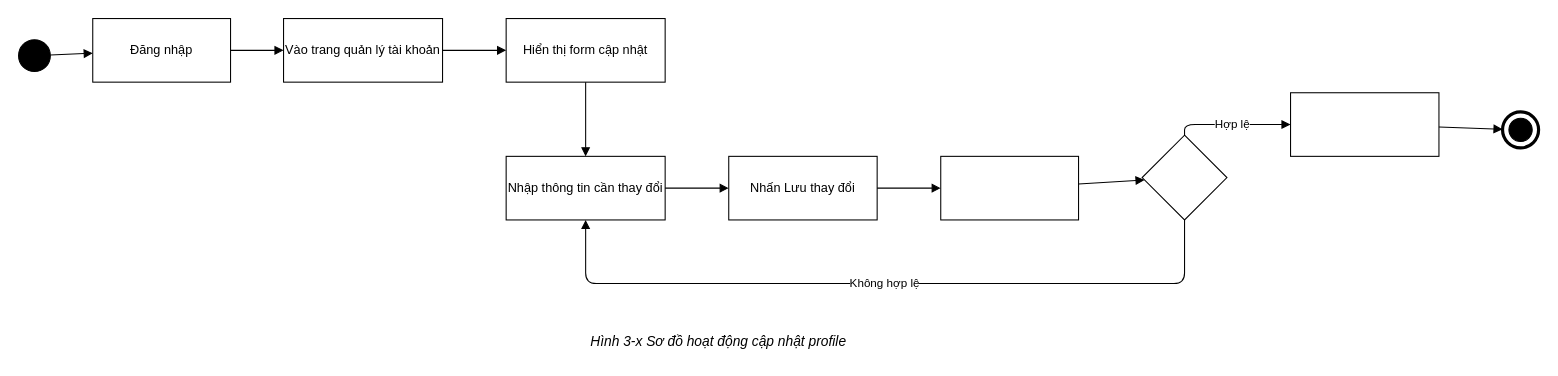
The diagram is 1558 pixels wide and 376 high, and some of its shapes have lost their labels. The box of each missing label's shape, as (x1, y1, x2, y2) in pixels:
updateUser(data): (1289, 92, 1439, 156)
validate(data): (940, 155, 1079, 220)
